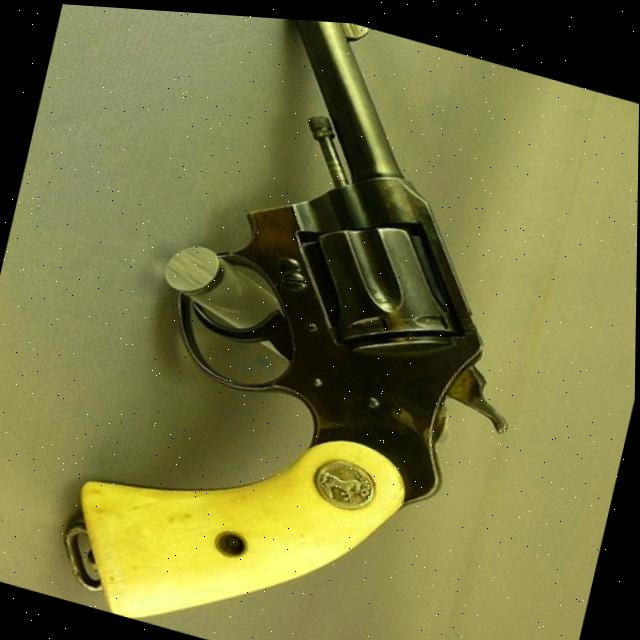pistol: (57, 3, 586, 640)
